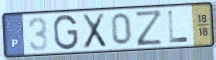0: (110, 12, 134, 48)
3: (27, 16, 49, 52)
G: (52, 13, 80, 52)
L: (166, 9, 190, 45)
X: (80, 11, 108, 51)
Z: (134, 8, 164, 48)
